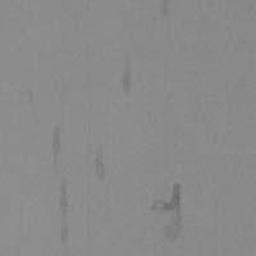Oil spot: (147, 180, 186, 246), (51, 123, 70, 256), (119, 47, 133, 99), (93, 143, 108, 184)
